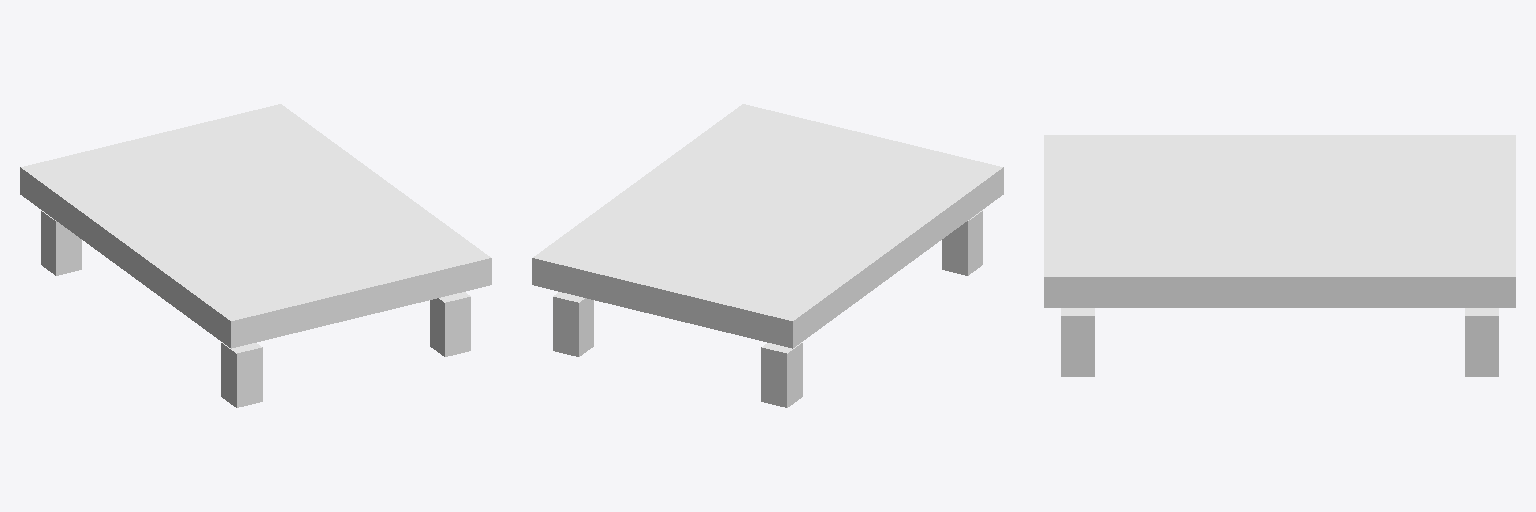
robot.urdf — table.urdf:
<?xml version="1.0" ?>
<robot name="table.urdf">
  <material name="white">
    <color rgba="1 1 1 1"/>
  </material>
  <link name="baseLink">
    <contact>
      <lateral_friction value="1.0"/>
    </contact>
    <inertial>
      <origin rpy="0 0 0" xyz="0 0 0"/>
       <mass value=".0"/>
       <inertia ixx="1" ixy="0" ixz="0" iyy="1" iyz="0" izz="1"/>
    </inertial>
    <visual>
      <origin rpy="0 0 0" xyz="0 0 0.15"/>
      <geometry>
        <mesh filename="table.obj" scale="0.5 0.7 0.05"/>
      </geometry>
	  <material name="white"/>
    </visual>
    <collision>
      <origin rpy="0 0 0" xyz="0 0 0.6"/>
      <geometry>
	 	<box size="1.5 1 0.05"/>
      </geometry>
    </collision>
	<visual>
      <origin rpy="0 0 0" xyz="-0.2 -0.3 0.05"/>
      <geometry>
	    <mesh filename="table.obj" scale="0.05 0.05 0.1"/>
      </geometry>
	  <material name="white"/>
    </visual>
    <visual>
      <origin rpy="0 0 0" xyz="-0.2 0.3 0.05"/>
      <geometry>
        <mesh filename="table.obj" scale="0.05 0.05 0.1"/>
      </geometry>
	  <material name="white"/>
	  </visual>
    <visual>
      <origin rpy="0 0 0" xyz="0.2 -0.3 0.05"/>
      <geometry>
        <mesh filename="table.obj" scale="0.05 0.05 0.1"/>
      </geometry>
	  <material name="white"/>
	  </visual>
    <visual>
      <origin rpy="0 0 0" xyz="0.2 0.3 0.05"/>
      <geometry>
        <mesh filename="table.obj" scale="0.05 0.05 0.1"/>
      </geometry>
	  <material name="white"/>
    </visual>
  </link>
</robot>


--- Render facts (derived) ---
3 views of the same robot in one strip: view 1: azimuth 30°, elevation 25°; view 2: azimuth 150°, elevation 25°; view 3: azimuth 270°, elevation 25° (orthographic).
Model table.urdf with 1 links and 0 joints (none), rooted at baseLink, posed every joint at zero.
Visible links, largest first — view 1: baseLink; view 2: baseLink; view 3: baseLink.
Link boxes in pixels (x1=…): baseLink: x1=20, y1=104, x2=491, y2=407; baseLink: x1=532, y1=104, x2=1003, y2=407; baseLink: x1=1044, y1=135, x2=1515, y2=376.
Bounding box of the posed robot: 0.5 × 0.7 × 0.175 m (x, y, z).
5 mesh visuals loaded from 1 distinct referenced files (1 OBJ).